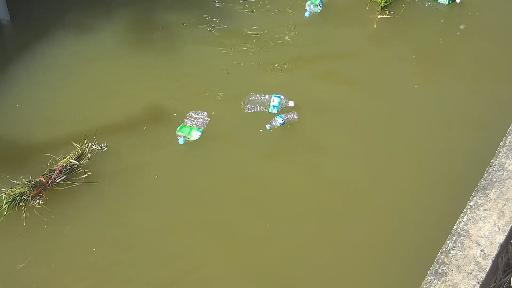plastic: (172, 108, 217, 147), (240, 91, 302, 116), (260, 114, 309, 131), (294, 0, 326, 19), (427, 0, 464, 6)
twig: (1, 131, 120, 229), (359, 1, 409, 30)
